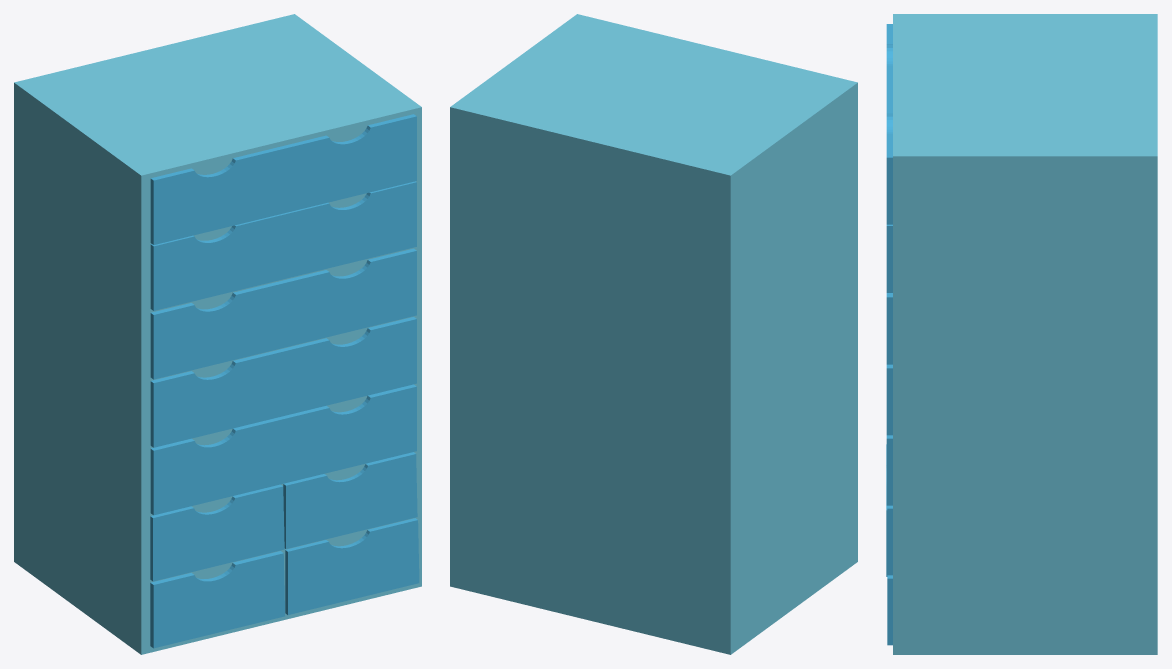
3 renders of one model, left to right at view 1: azimuth 30°, elevation 25°; view 2: azimuth 150°, elevation 25°; view 3: azimuth 270°, elevation 25°, orthographic. The views are drawn at different scales.
Parts seen in each view (by area): view 1: drawer.001, drawer_door6.001, drawer_door7.001, drawer_door9.001, drawer_door5.001, drawer_door8.001, drawer_door2.001, drawer_door4.001, drawer_door1.001, drawer_door3.001; view 2: drawer.001; view 3: drawer.001, drawer_door9.001, drawer_door7.001, drawer_door6.001, drawer_door5.001, drawer_door8.001, drawer_door1.001, drawer_door3.001.
Boxes of the visible parts, x1,y1,x2,y2 form: drawer.001: (14,14,421,654); drawer_door6.001: (150,317,416,447); drawer_door7.001: (150,248,416,379); drawer_door9.001: (150,114,416,244); drawer_door5.001: (150,384,416,515); drawer_door8.001: (150,181,416,310); drawer_door2.001: (150,551,284,648); drawer_door4.001: (150,484,284,581); drawer_door1.001: (285,518,419,614); drawer_door3.001: (283,452,417,548); drawer.001: (450,14,857,654); drawer.001: (893,14,1157,654); drawer_door9.001: (886,24,892,224); drawer_door7.001: (886,293,892,364); drawer_door6.001: (886,364,892,435); drawer_door5.001: (886,435,892,505); drawer_door8.001: (886,224,892,292); drawer_door1.001: (887,575,892,645); drawer_door3.001: (887,505,892,575).
Size of the model in its own units: 255 by 416 by 205.
